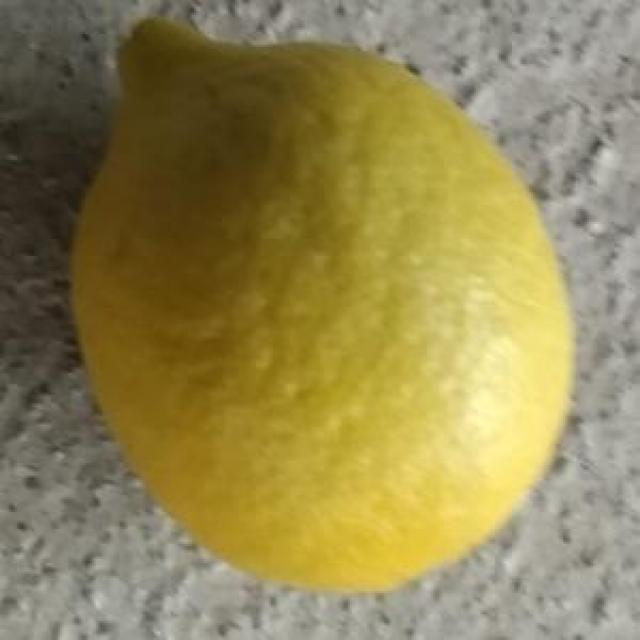lemon: (66, 21, 578, 592)
